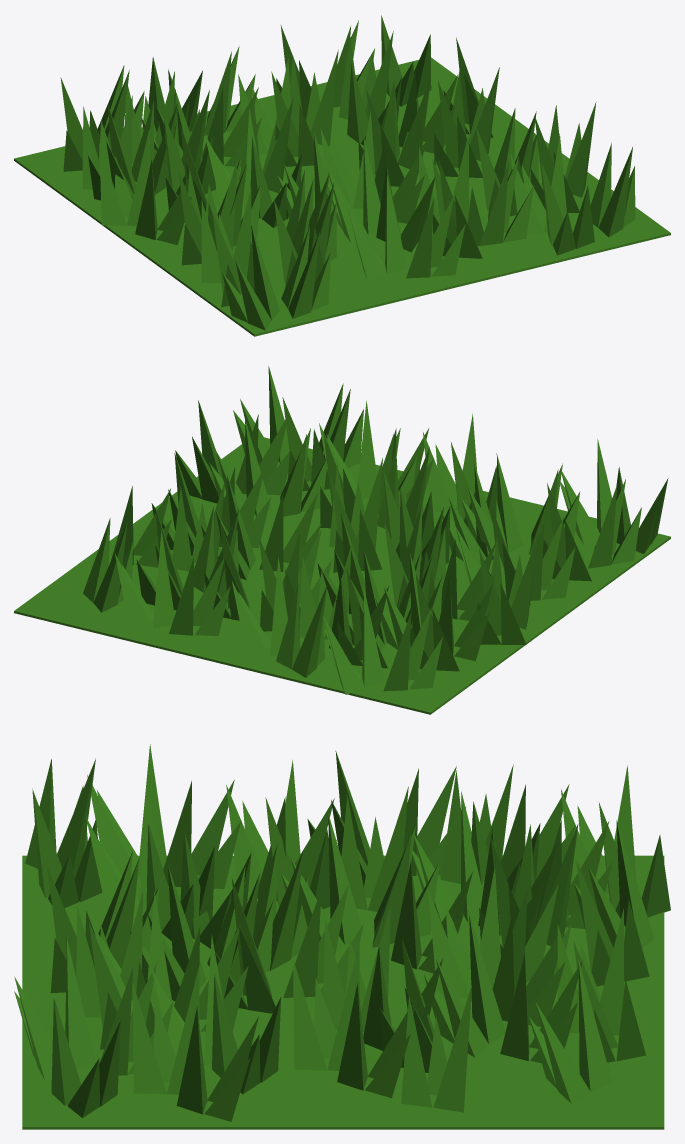
File: grass1.fbx
3 renders of one model, top to bottom at view 1: azimuth 30°, elevation 25°; view 2: azimuth 150°, elevation 25°; view 3: azimuth 270°, elevation 25°, orthographic. The views are drawn at different scales.
Parts seen in each view (by area): view 1: Plane, Cylinder.060, Cylinder.002, Cylinder.001, Cylinder.038, Cylinder.008, Cylinder.007, Cylinder.035, Cylinder.006, Cylinder.012, Cylinder.029, Cylinder.056 (+49 smaller); view 2: Plane, Cylinder.047, Cylinder.032, Cylinder.031, Cylinder.043, Cylinder.048, Cylinder.053, Cylinder.049, Cylinder.011, Cylinder.003, Cylinder.008, Cylinder.023 (+49 smaller); view 3: Plane, Cylinder.044, Cylinder.043, Cylinder.059, Cylinder.045, Cylinder.021, Cylinder.060, Cylinder.030, Cylinder.058, Cylinder.041, Cylinder.046, Cylinder.035 (+49 smaller).
Part boxes in pixels (x1,y1,x2,y2): Plane: (14, 57, 670, 336); Cylinder.060: (590, 142, 635, 237); Cylinder.002: (222, 225, 279, 330); Cylinder.001: (281, 226, 331, 318); Cylinder.038: (99, 130, 150, 225); Cylinder.008: (406, 194, 465, 278); Cylinder.007: (346, 175, 407, 280); Cylinder.035: (541, 162, 594, 255); Cylinder.006: (479, 156, 534, 246); Cylinder.012: (201, 188, 251, 283); Cylinder.029: (290, 49, 338, 146); Cylinder.056: (325, 138, 380, 243); Plane: (14, 437, 670, 714); Cylinder.047: (276, 583, 327, 677); Cylinder.032: (169, 556, 230, 635); Cylinder.031: (115, 530, 174, 632); Cylinder.043: (83, 518, 132, 612); Cylinder.048: (383, 607, 442, 691); Cylinder.053: (231, 557, 287, 661); Cylinder.049: (323, 588, 384, 694); Cylinder.011: (588, 479, 641, 568); Cylinder.003: (461, 453, 522, 559); Cylinder.008: (423, 413, 477, 511); Cylinder.023: (259, 492, 321, 572); Plane: (22, 855, 664, 1129); Cylinder.044: (401, 985, 471, 1112); Cylinder.043: (529, 960, 612, 1103); Cylinder.059: (132, 966, 199, 1094); Cylinder.045: (293, 942, 359, 1070); Cylinder.021: (424, 913, 505, 1057); Cylinder.060: (51, 998, 120, 1117); Cylinder.030: (428, 867, 500, 999); Cylinder.058: (176, 1006, 258, 1121); Cylinder.041: (341, 786, 408, 911); Cylinder.046: (337, 983, 419, 1098); Cylinder.035: (14, 937, 95, 1080).
Size of the model in its own units: 818 by 163 by 819.
